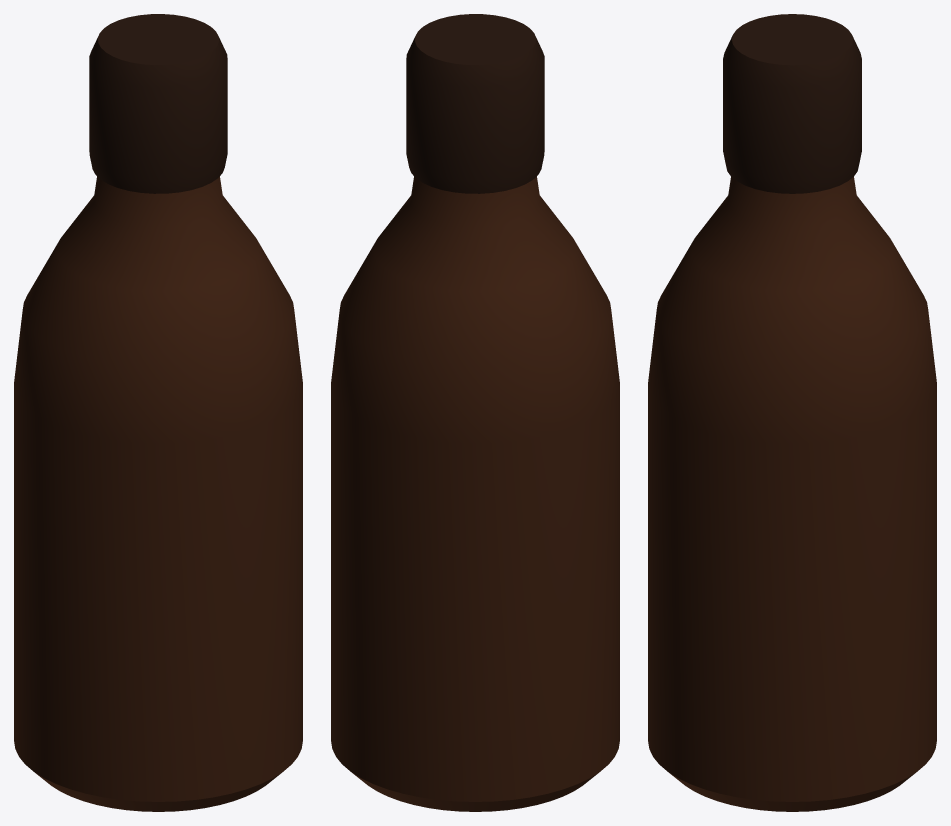
Rendered from Tare_Bottle.fbx.
The picture shows the model from 3 angles, left to right: view 1: azimuth 30°, elevation 25°; view 2: azimuth 150°, elevation 25°; view 3: azimuth 270°, elevation 25°; orthographic projection.
Parts seen in each view (by area): view 1: Tare_Bottle; view 2: Tare_Bottle; view 3: Tare_Bottle.
Boxes of the visible parts, x1,y1,x2,y2 form: Tare_Bottle: (14, 14, 302, 811); Tare_Bottle: (331, 14, 619, 811); Tare_Bottle: (648, 14, 936, 811).
Size of the model in its own units: 0.056 by 0.154 by 0.056.
